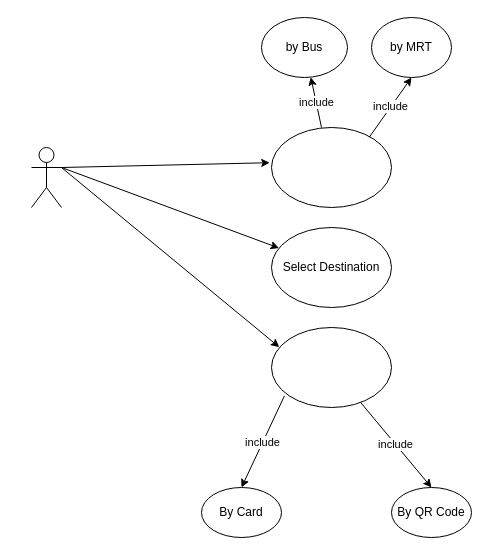
This 489x555 diagram has some shape labels left out. The centre of each missing label's shape, as x and y in pixels:
"Customers" goes at point (46, 177).
"Select Payments" goes at point (331, 367).
"Select Vehicle" goes at point (331, 167).
